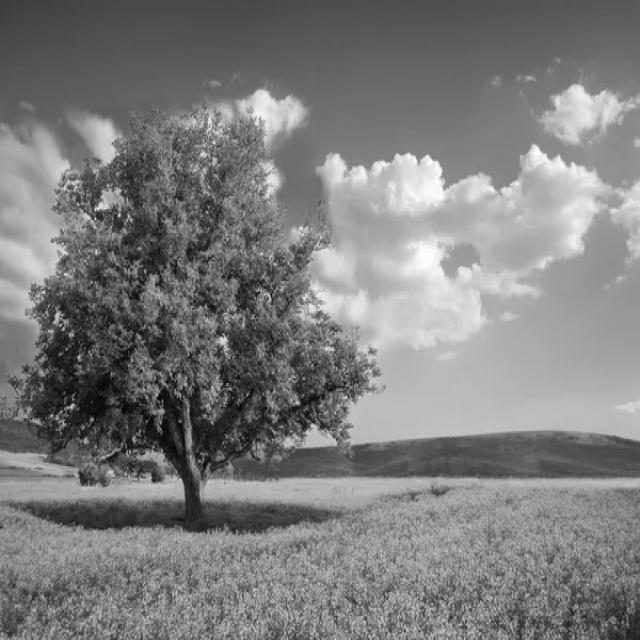Tree: (8, 107, 380, 523)
